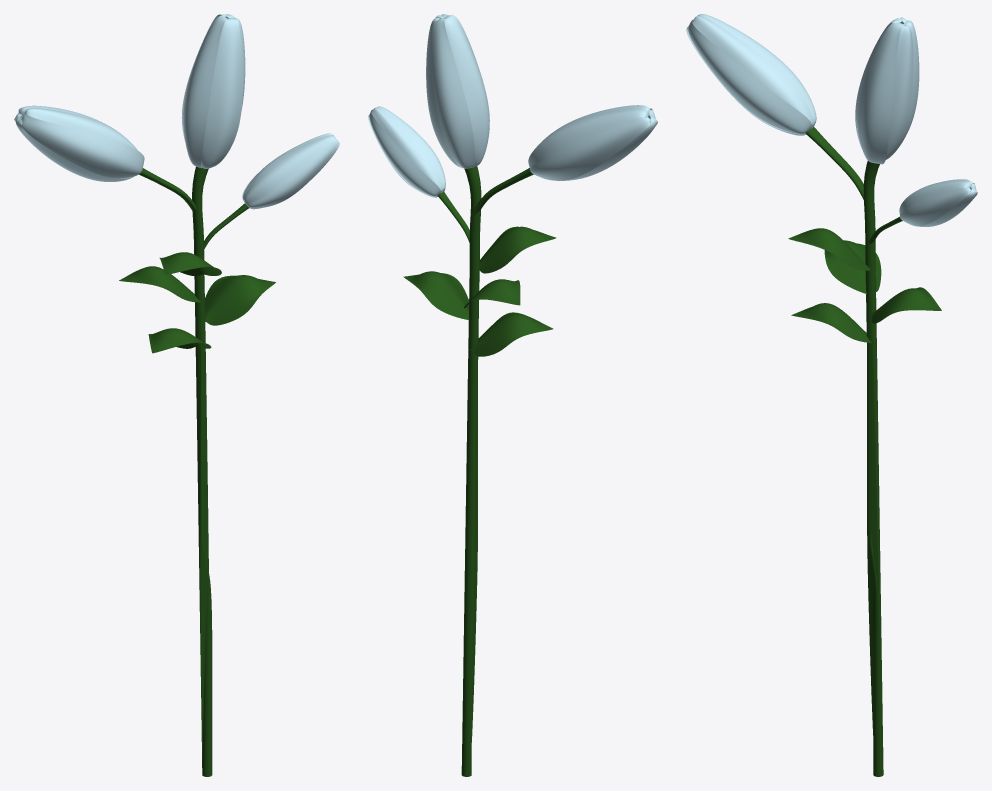
Rendered from Lirio3C.fbx.
The picture shows the model from 3 angles, left to right: view 1: azimuth 30°, elevation 25°; view 2: azimuth 150°, elevation 25°; view 3: azimuth 330°, elevation 25°; orthographic projection.
Visible parts, largest first — view 1: Stem.001, Petal.004, Petal.007, Petal.001, Leaf, Petal.013, Petal.012, Petal.006, Leaf.002, Leaf.001, Leaf.003, Petal.010; view 2: Stem.001, Petal.002, Petal.009, Petal.001, Petal.008, Leaf, Leaf.003, Leaf.001, Petal.014, Petal.013, Petal.015, Petal.003 (+3 smaller); view 3: Stem.001, Petal.004, Petal.007, Petal.006, Petal.005, Leaf.002, Leaf.001, Petal.012, Leaf.003, Leaf, Petal.008, Petal.013 (+2 smaller).
Boxes of the visible parts, bbox=[...] form: Stem.001: bbox=[192, 166, 212, 776]; Petal.004: bbox=[201, 18, 242, 168]; Petal.007: bbox=[21, 114, 144, 178]; Petal.001: bbox=[183, 15, 227, 167]; Leaf: bbox=[204, 275, 275, 325]; Petal.013: bbox=[244, 135, 336, 205]; Petal.012: bbox=[247, 140, 339, 208]; Petal.006: bbox=[24, 108, 137, 149]; Leaf.002: bbox=[119, 266, 200, 302]; Leaf.001: bbox=[159, 252, 221, 275]; Leaf.003: bbox=[148, 328, 211, 353]; Petal.010: bbox=[15, 117, 133, 181]; Stem.001: bbox=[461, 166, 481, 776]; Petal.002: bbox=[430, 18, 474, 168]; Petal.009: bbox=[530, 117, 650, 180]; Petal.001: bbox=[444, 15, 489, 166]; Petal.008: bbox=[528, 108, 649, 167]; Leaf: bbox=[403, 271, 469, 319]; Leaf.003: bbox=[469, 312, 553, 356]; Leaf.001: bbox=[479, 226, 556, 273]; Petal.014: bbox=[369, 109, 440, 196]; Petal.013: bbox=[376, 106, 445, 191]; Petal.015: bbox=[371, 107, 442, 192]; Petal.003: bbox=[426, 17, 462, 167]; Stem.001: bbox=[863, 161, 883, 776]; Petal.004: bbox=[856, 22, 903, 164]; Petal.007: bbox=[688, 20, 811, 134]; Petal.006: bbox=[692, 16, 814, 128]; Petal.005: bbox=[885, 25, 913, 159]; Leaf.002: bbox=[824, 240, 881, 293]; Leaf.001: bbox=[788, 228, 870, 270]; Petal.012: bbox=[900, 187, 970, 226]; Leaf.003: bbox=[791, 303, 871, 342]; Leaf: bbox=[871, 287, 941, 323]; Petal.008: bbox=[697, 14, 816, 126]; Petal.013: bbox=[899, 180, 970, 214].
Size of the model in its own units: 540 by 1285 by 155.
Materials: 22 (22 with a texture image).
